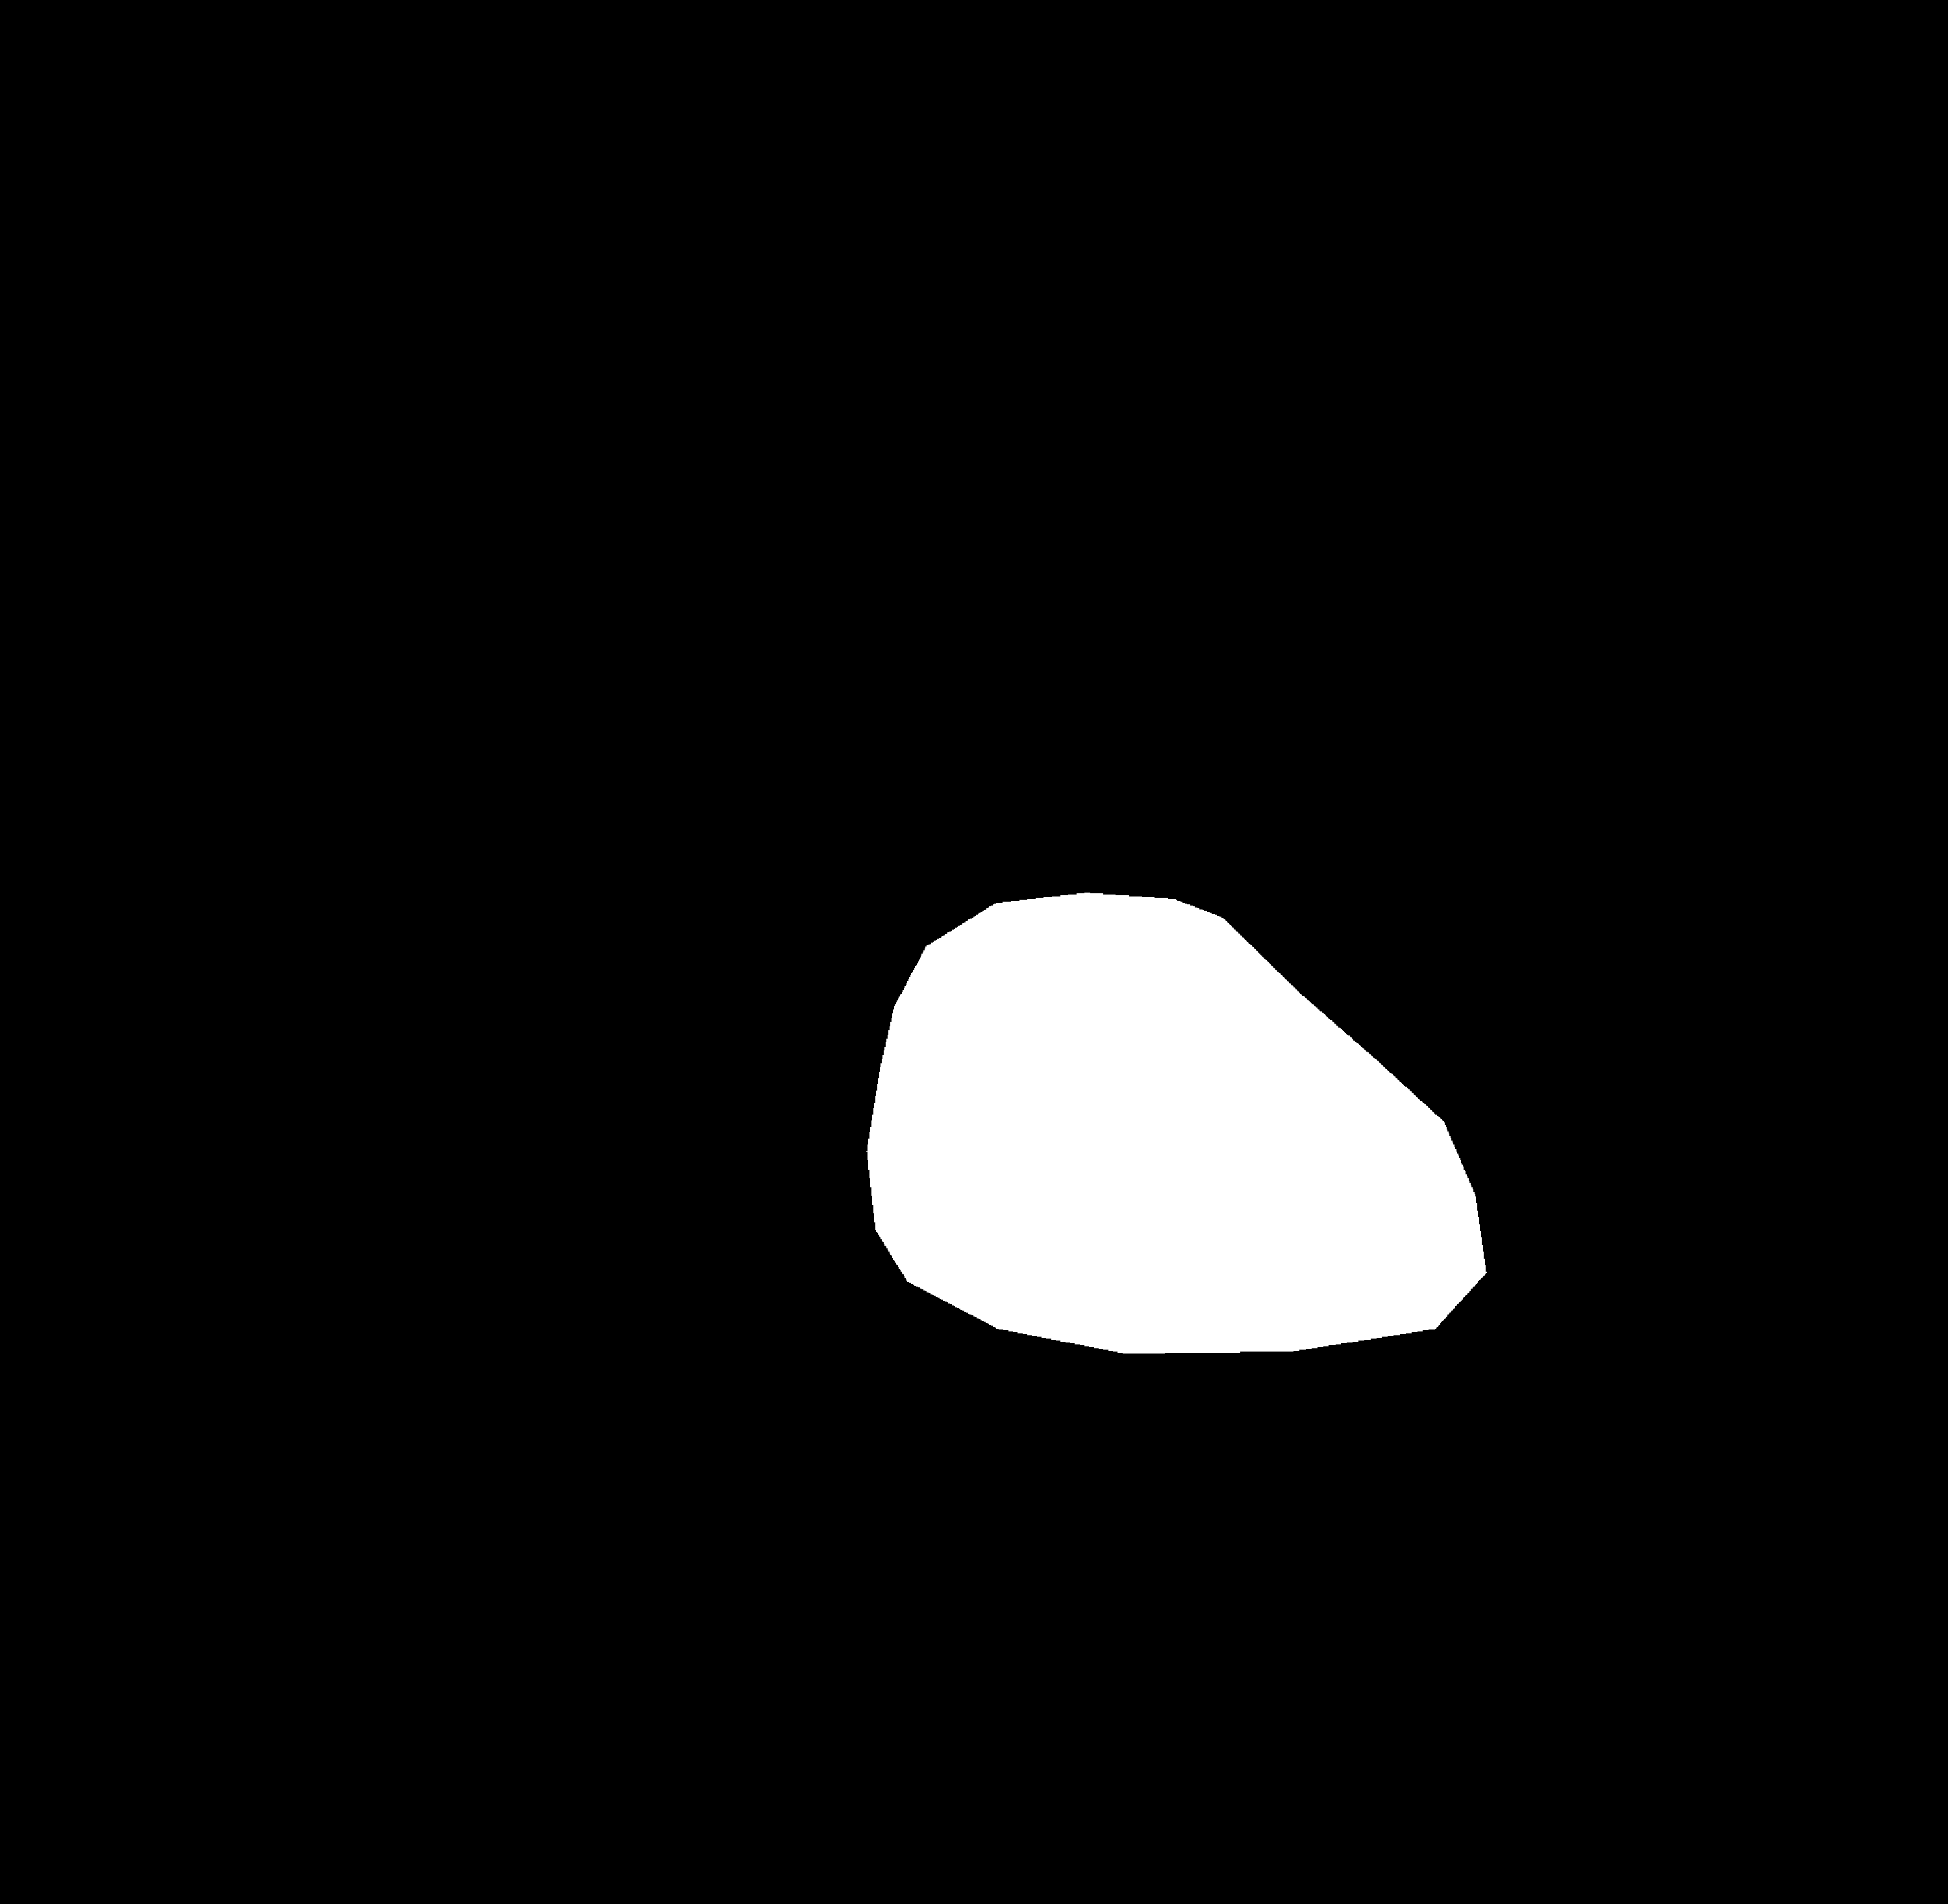heart: (862, 987, 1481, 1386)
left_lung: (450, 263, 938, 1440)
right_lung: (1046, 232, 1688, 1475)
